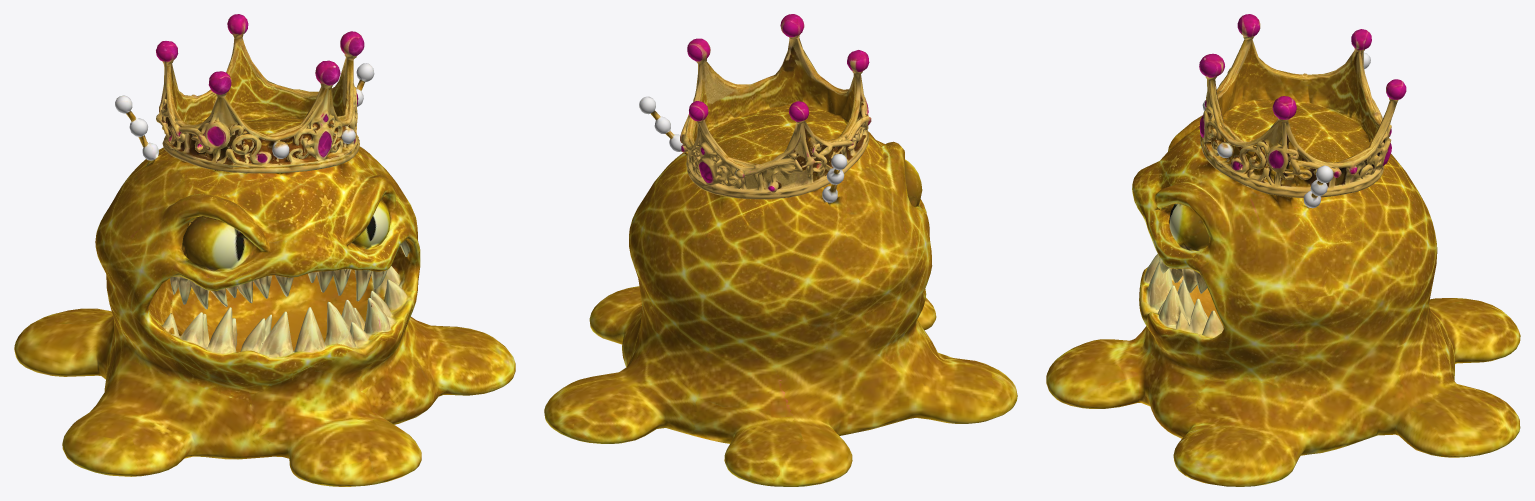
File: gilded.glb
3 renders of one model, left to right at view 1: azimuth 30°, elevation 25°; view 2: azimuth 150°, elevation 25°; view 3: azimuth 270°, elevation 25°, orthographic. The views are drawn at different scales.
Bounding box in the file's own units: 1.9 × 1.47 × 1.85.
Materials: 1 (1 with a texture image).
